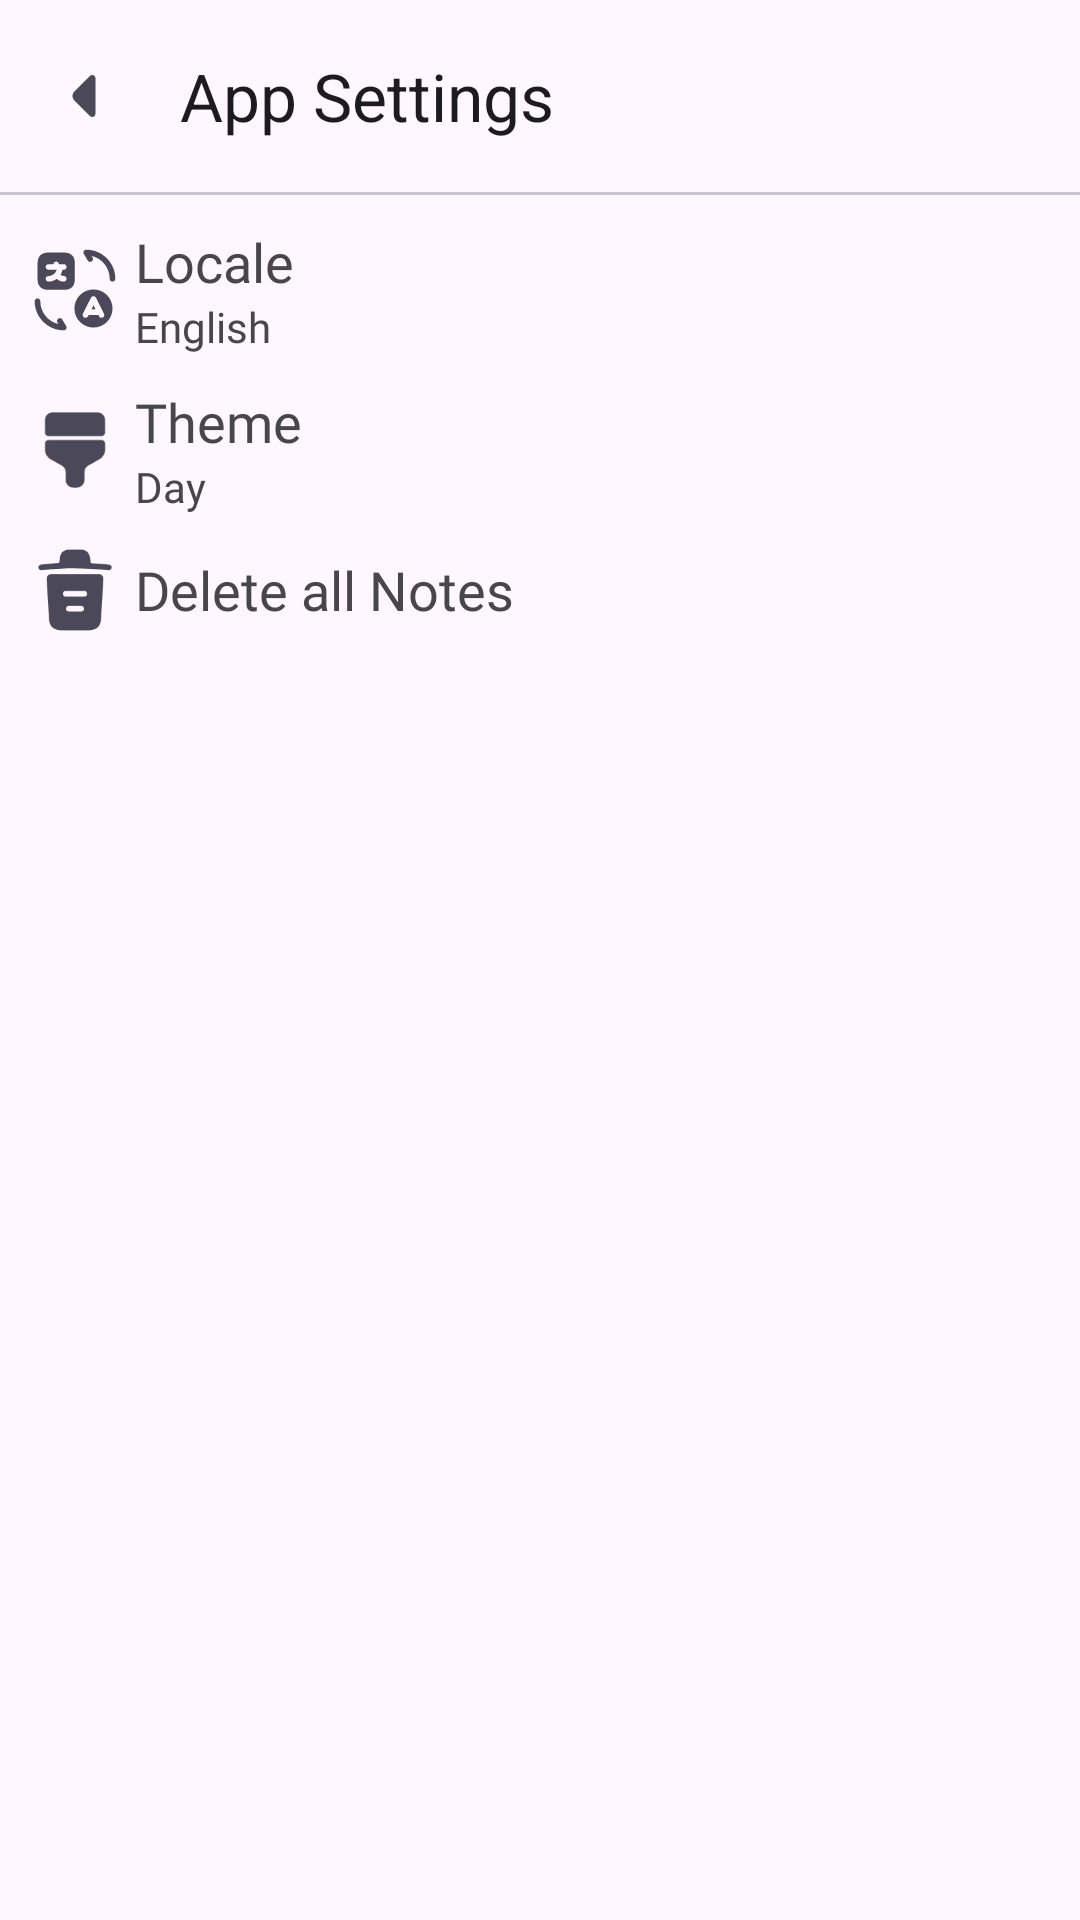

Where to tap for icons on this 1080×1920 app screen, as (x=x, y=y):
language: (x=75, y=290)
trash: (x=75, y=590)
